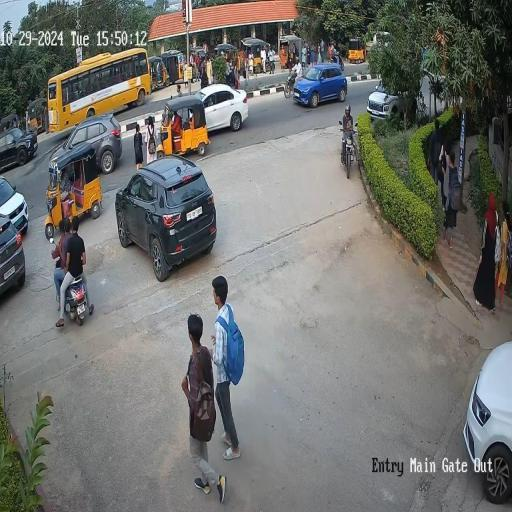helmet: (337, 100, 357, 128)
triple riding: (51, 214, 95, 281)
